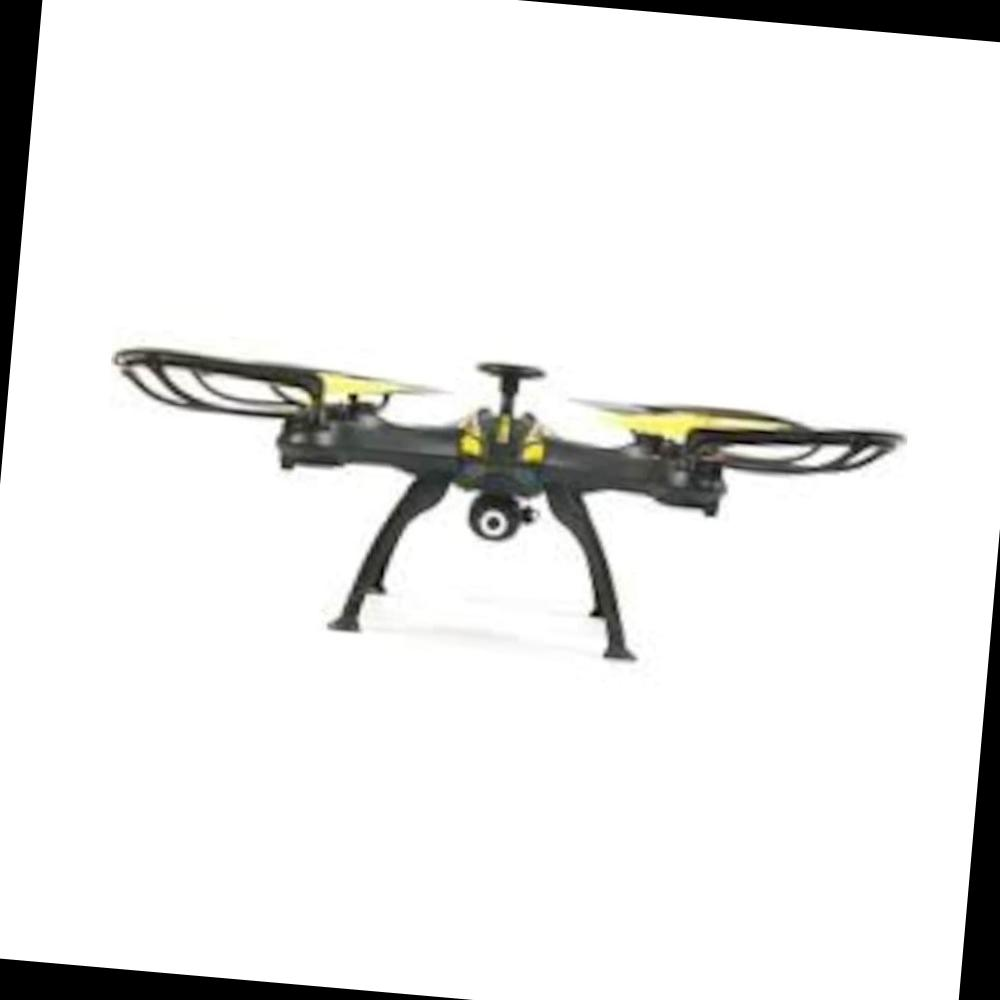drone: (83, 316, 902, 620)
